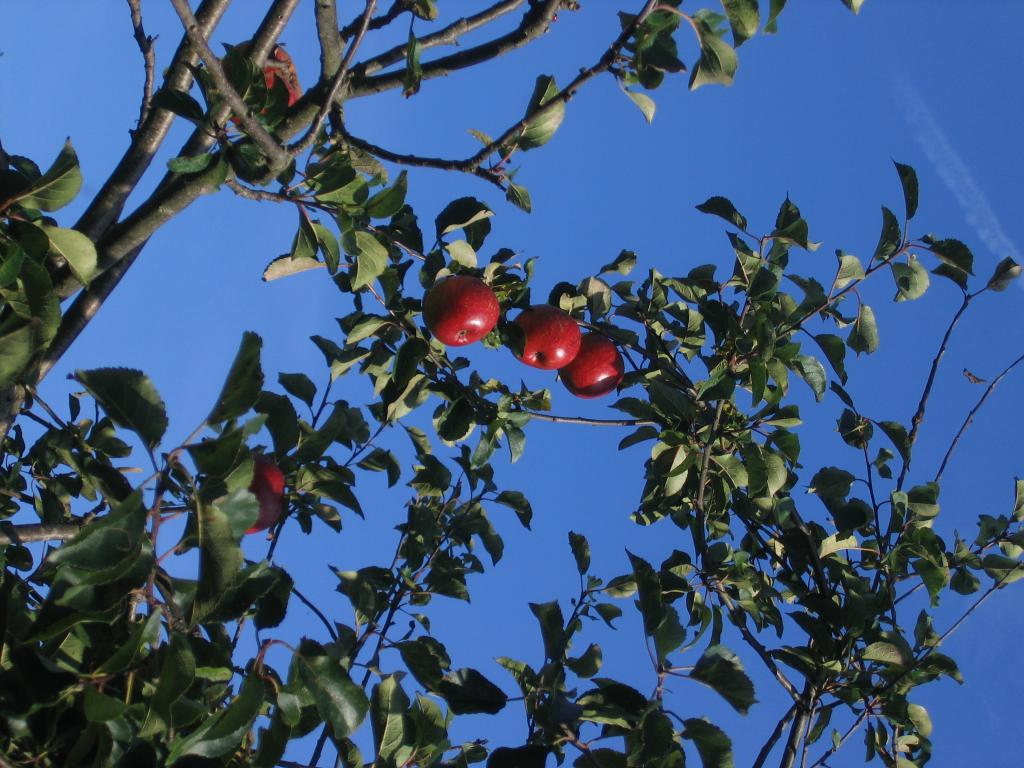Apple: (228, 44, 304, 129), (426, 266, 496, 346), (511, 303, 577, 373), (559, 333, 625, 399), (243, 457, 286, 534)
